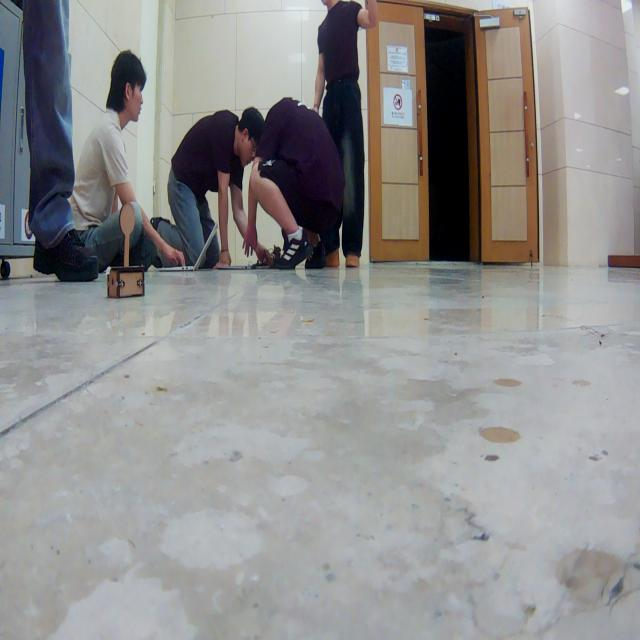target: (106, 202, 145, 299)
